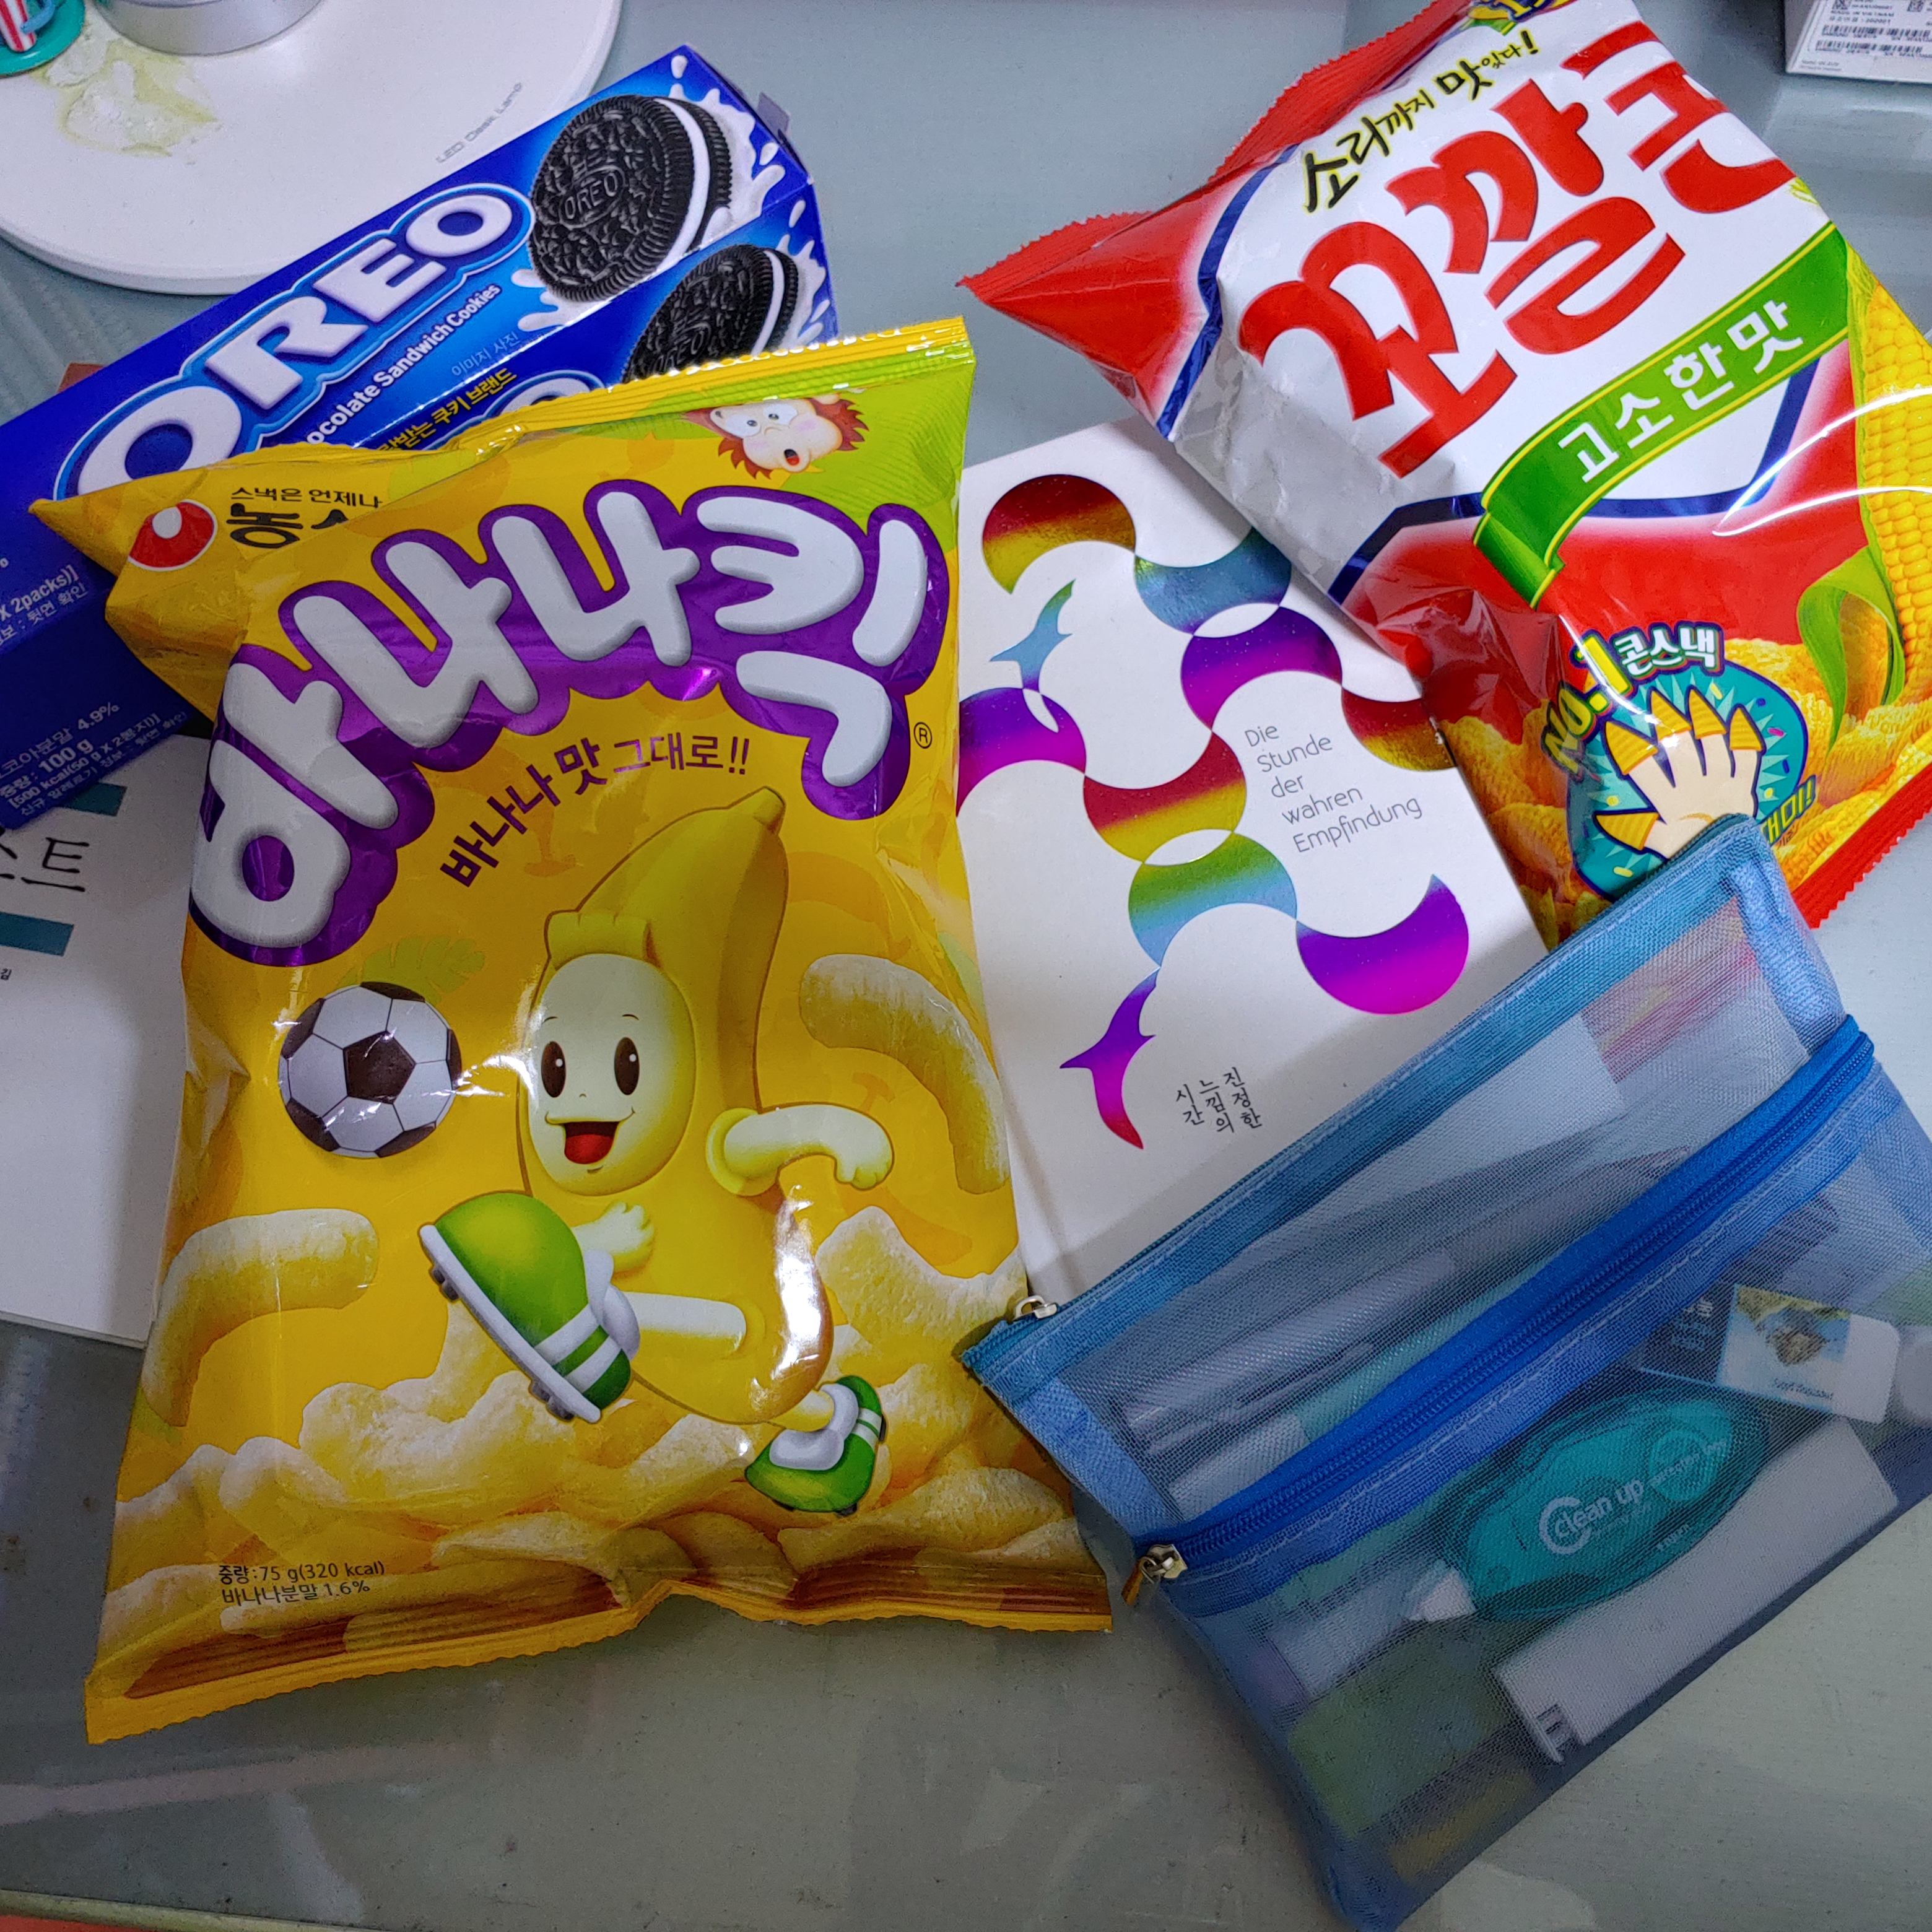banana: (11, 320, 1233, 1794)
ggoggalcon: (895, 7, 1932, 964)
oreo: (0, 41, 849, 566)
